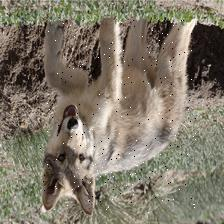WOLF: (41, 20, 197, 214)
